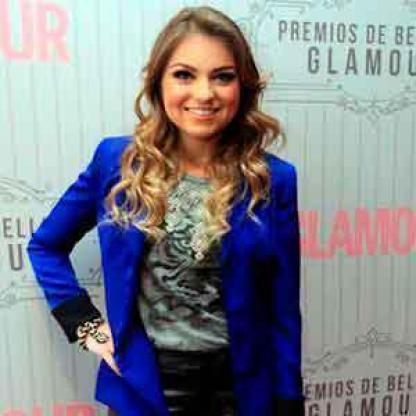long-hair: (115, 137, 279, 171)
